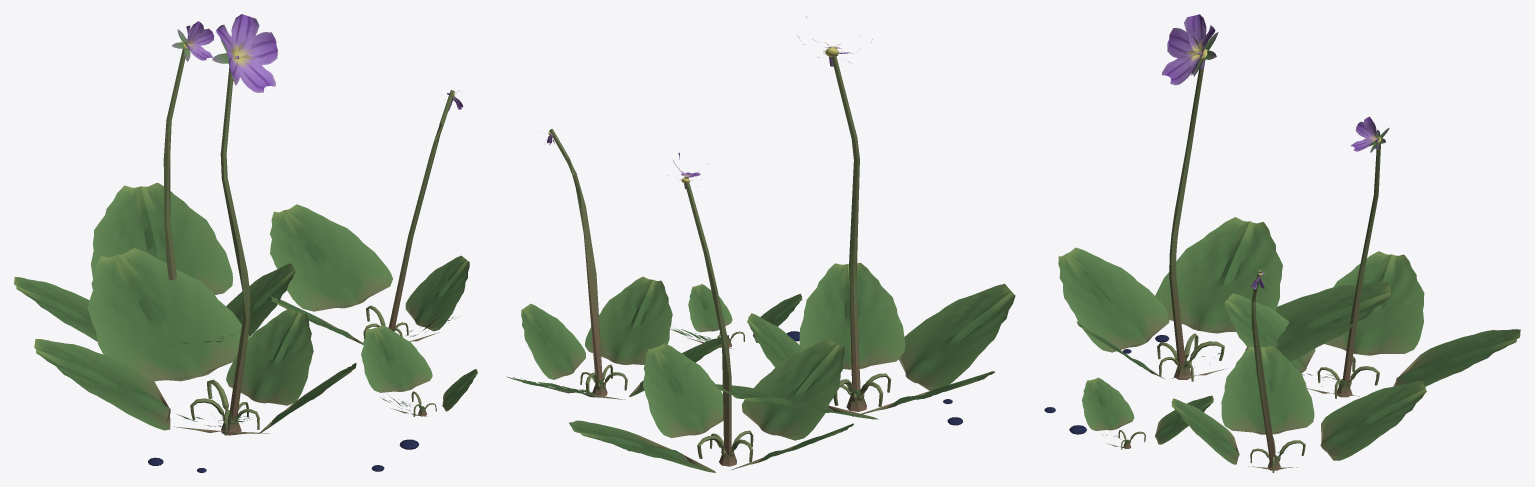
Rendered from FinaleBloom.glb.
The picture shows the model from 3 angles, left to right: view 1: azimuth 30°, elevation 25°; view 2: azimuth 150°, elevation 25°; view 3: azimuth 270°, elevation 25°; orthographic projection. The views are drawn at different scales.
Parts seen in each view (by area): view 1: FinaleBloom.001; view 2: FinaleBloom.001; view 3: FinaleBloom.001.
Boxes of the visible parts, <box> form: FinaleBloom.001: <box>14,14,477,472</box>; FinaleBloom.001: <box>507,16,1015,472</box>; FinaleBloom.001: <box>1044,14,1520,472</box>.
Size of the model in its own units: 0.1337 by 0.1151 by 0.1361.
